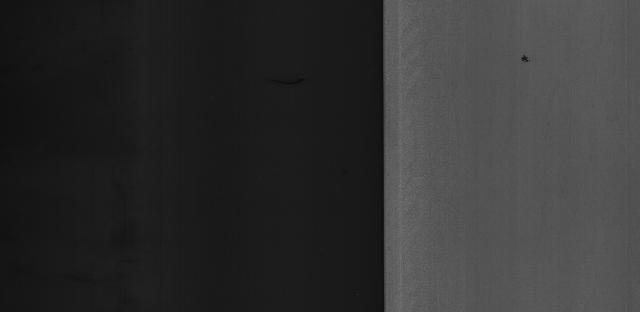inclusion: (514, 45, 538, 67)
